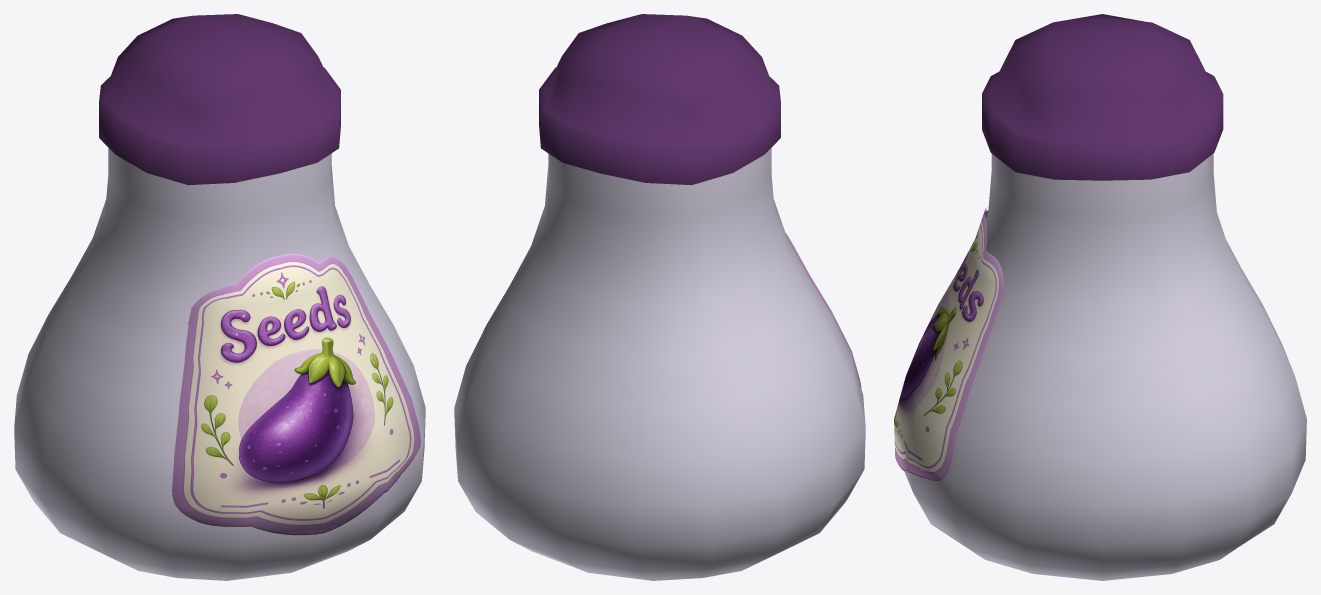
Rendered from seed_eggplant.glb.
3 renders of one model, left to right at view 1: azimuth 30°, elevation 25°; view 2: azimuth 150°, elevation 25°; view 3: azimuth 270°, elevation 25°, orthographic.
Parts seen in each view (by area): view 1: seed_eggplant; view 2: seed_eggplant; view 3: seed_eggplant.
Boxes of the visible parts, box(x1,y1,x2,y2) form: seed_eggplant: box(14, 14, 425, 580); seed_eggplant: box(454, 14, 865, 580); seed_eggplant: box(894, 14, 1306, 580).
Size of what is drawn, in the model's own units: 0.3161 by 0.4348 by 0.3193.
Materials: 3 (1 with a texture image).
